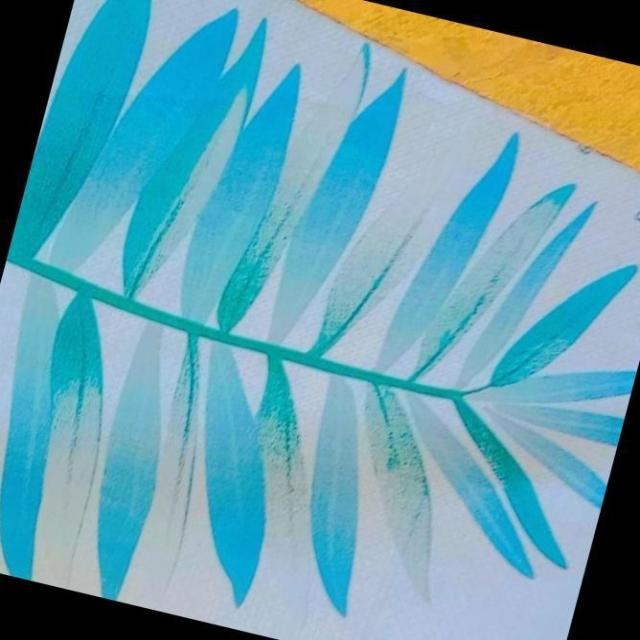color issues: (222, 57, 366, 363), (71, 56, 252, 298), (0, 278, 139, 589), (306, 117, 458, 372), (106, 320, 240, 607), (325, 378, 471, 592), (414, 183, 556, 397), (216, 358, 346, 576), (465, 357, 569, 491)
